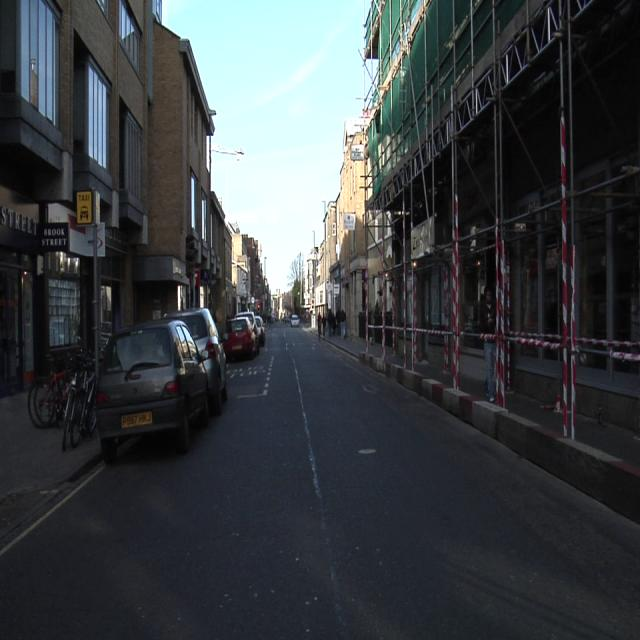Building: (307, 3, 639, 350), (2, 0, 235, 396), (228, 221, 270, 317)
Car: (97, 321, 219, 461), (225, 313, 257, 355), (254, 317, 265, 347), (291, 315, 299, 326)
Road: (0, 327, 640, 638)
